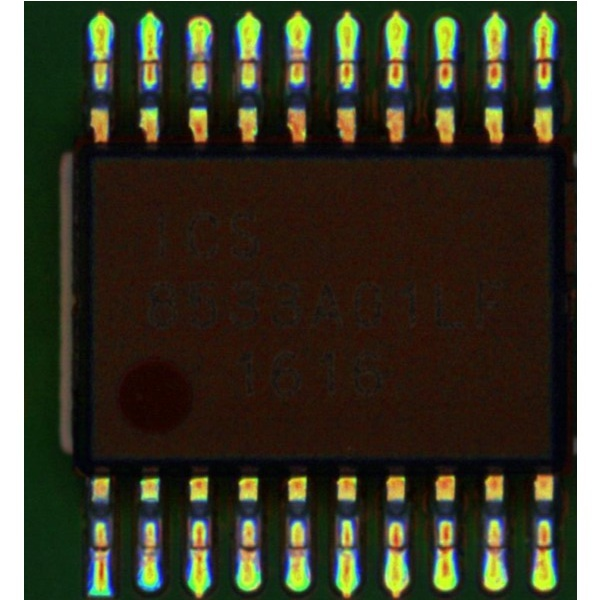Bad_podu: (242, 39, 256, 73), (290, 533, 304, 565), (242, 532, 255, 566), (390, 532, 401, 572), (144, 41, 157, 72), (439, 532, 452, 562), (140, 531, 154, 558), (194, 531, 204, 568), (490, 39, 500, 73), (95, 533, 105, 566), (538, 42, 549, 72), (342, 533, 352, 565), (291, 44, 302, 73), (491, 536, 501, 563), (540, 533, 548, 565)
